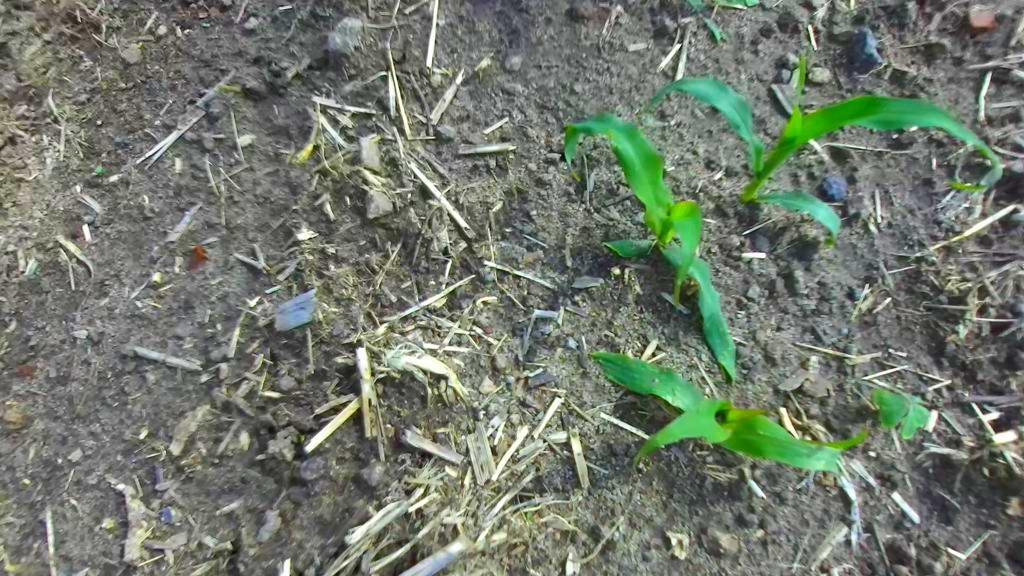BroWeed: (859, 374, 936, 444), (700, 11, 730, 45), (944, 321, 975, 347), (187, 244, 207, 271), (610, 265, 620, 281), (924, 254, 937, 263), (524, 510, 533, 520), (201, 22, 211, 27), (94, 165, 101, 172), (300, 434, 305, 443)
Maize: (621, 9, 1017, 295), (534, 89, 798, 399), (562, 344, 871, 527)
